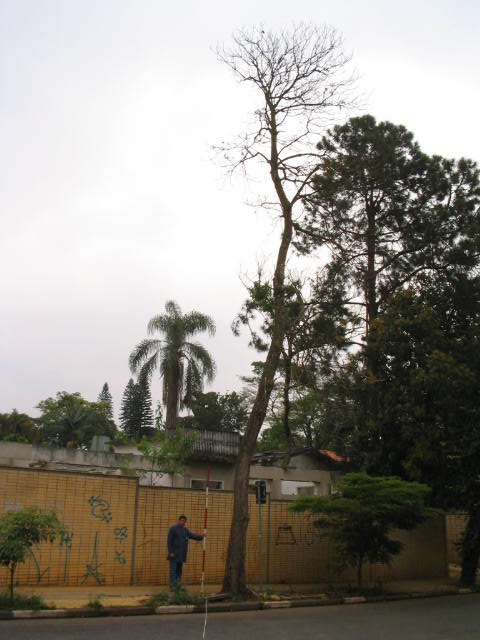stem: (215, 213, 316, 601)
stick: (192, 467, 218, 597)
tree: (195, 8, 357, 604), (297, 114, 465, 468), (126, 301, 215, 428)
